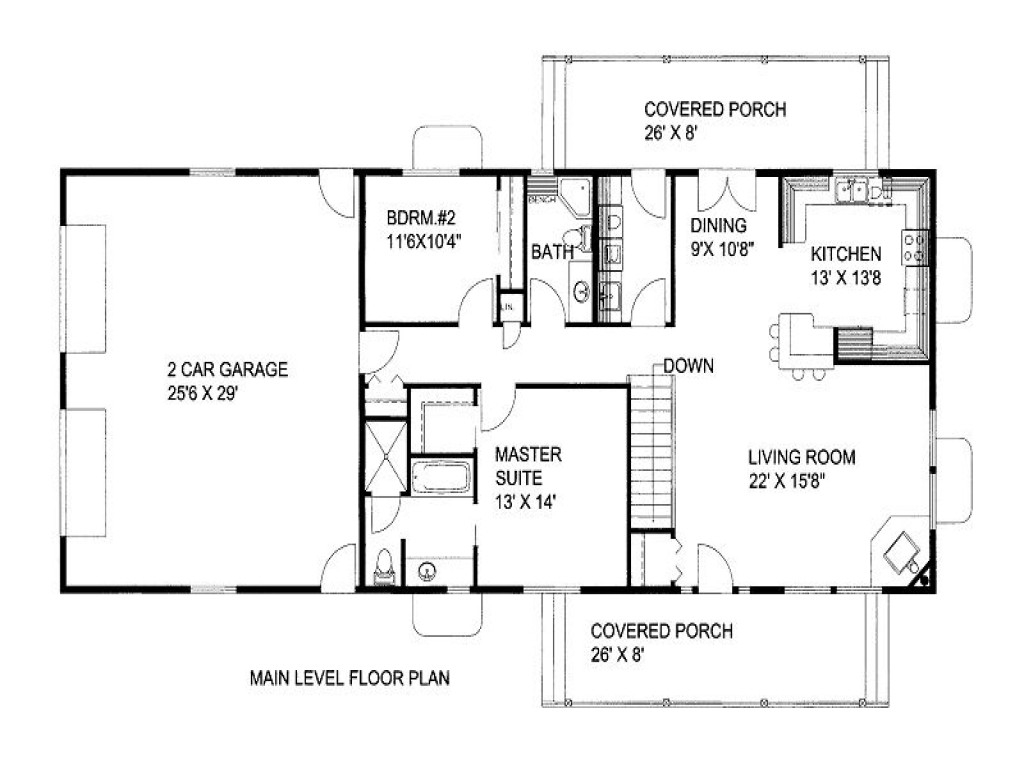window: (187, 577, 234, 602), (789, 583, 832, 602), (927, 410, 940, 466), (190, 166, 234, 181), (521, 582, 580, 592), (401, 168, 460, 177), (927, 470, 935, 529), (838, 577, 872, 589), (830, 168, 880, 175), (446, 586, 466, 593)
